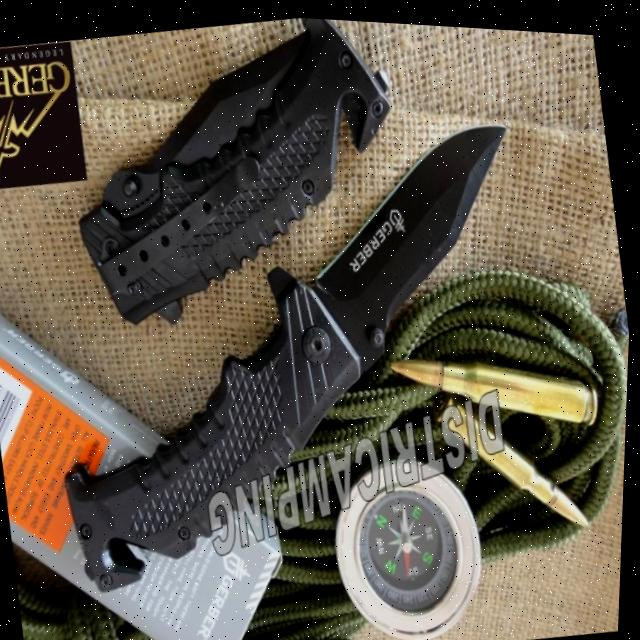knife: (0, 104, 566, 619), (66, 4, 408, 359)
